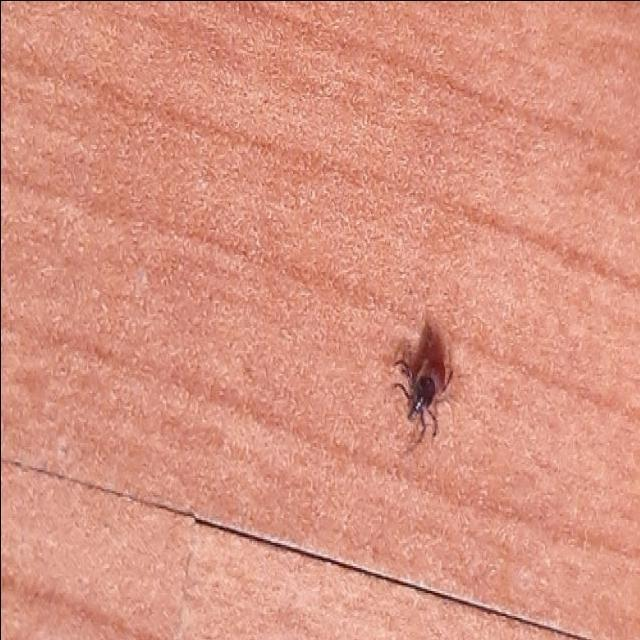Ixodes Ricinus-F: (392, 309, 456, 454)
